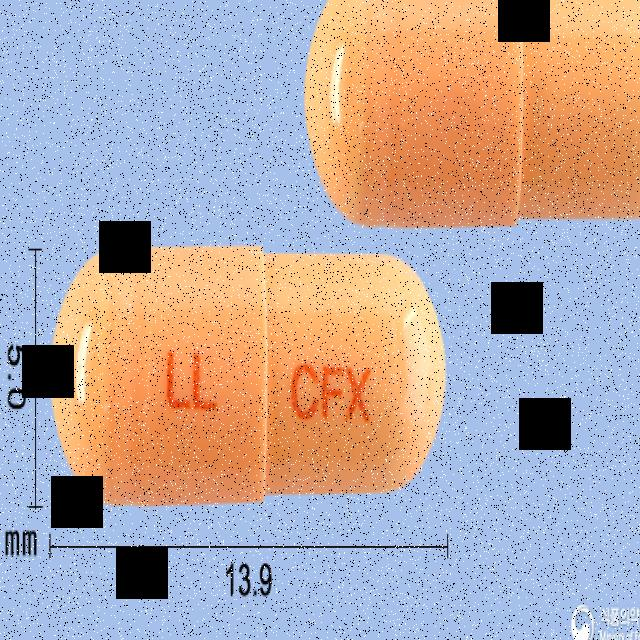Cefaxamin Cap: (46, 239, 452, 510)
